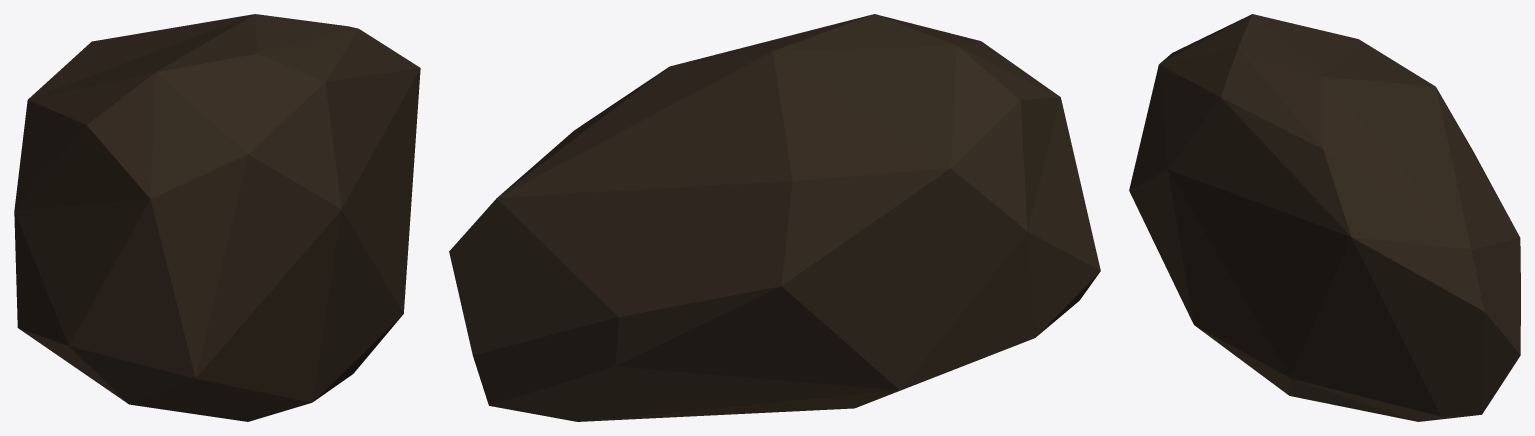
Rendered from mossy-stones-c.lod2.glb.
3 views of the same model, side by side, from view 1: azimuth 30°, elevation 25°; view 2: azimuth 150°, elevation 25°; view 3: azimuth 270°, elevation 25° (orthographic). The views are drawn at different scales.
Visible parts, largest first — view 1: defaultMaterial; view 2: defaultMaterial; view 3: defaultMaterial.
Boxes of the visible parts, left/top/right/bottom form: defaultMaterial: left=14, top=14, right=420, bottom=421; defaultMaterial: left=449, top=14, right=1100, bottom=421; defaultMaterial: left=1129, top=14, right=1520, bottom=421.
Bounding box in the file's own units: 0.9767 × 0.7242 × 0.8548.
